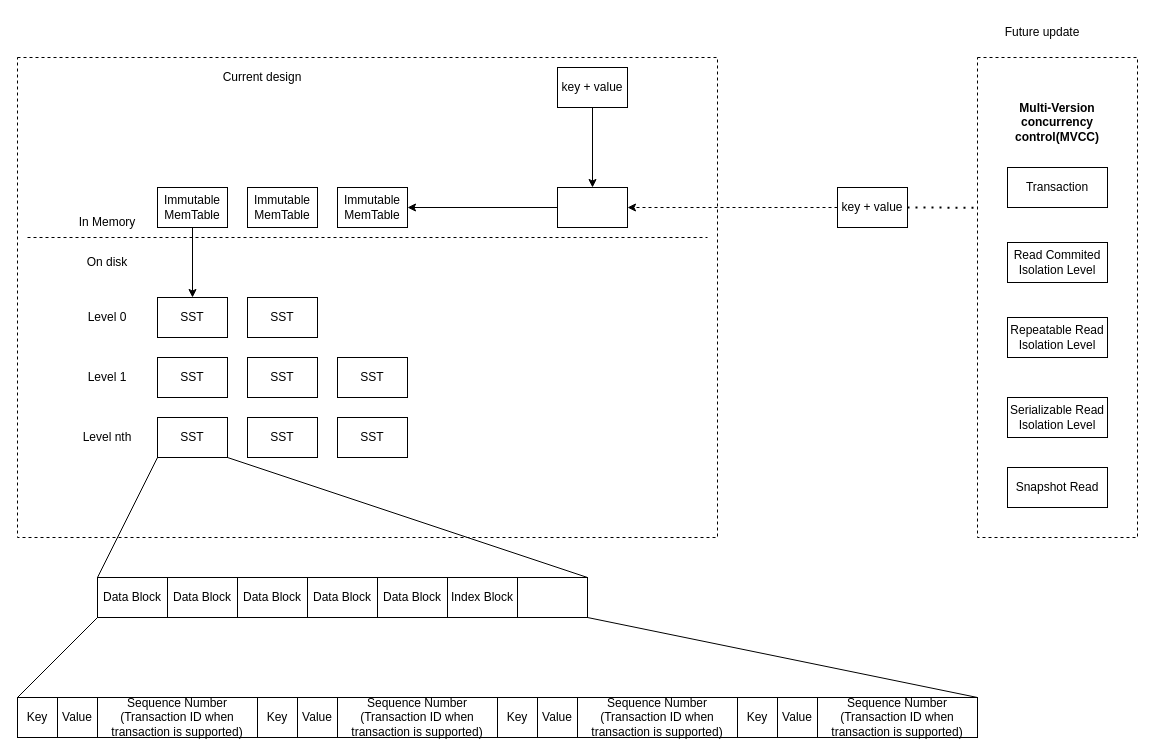
This 1155x756 diagram has some shape labels left out. Here are the shapes that lost their labels. From the top down, the centre of each, then its label:
At [592,207]: "MemTable".
At [552,597]: "Extra Info".
